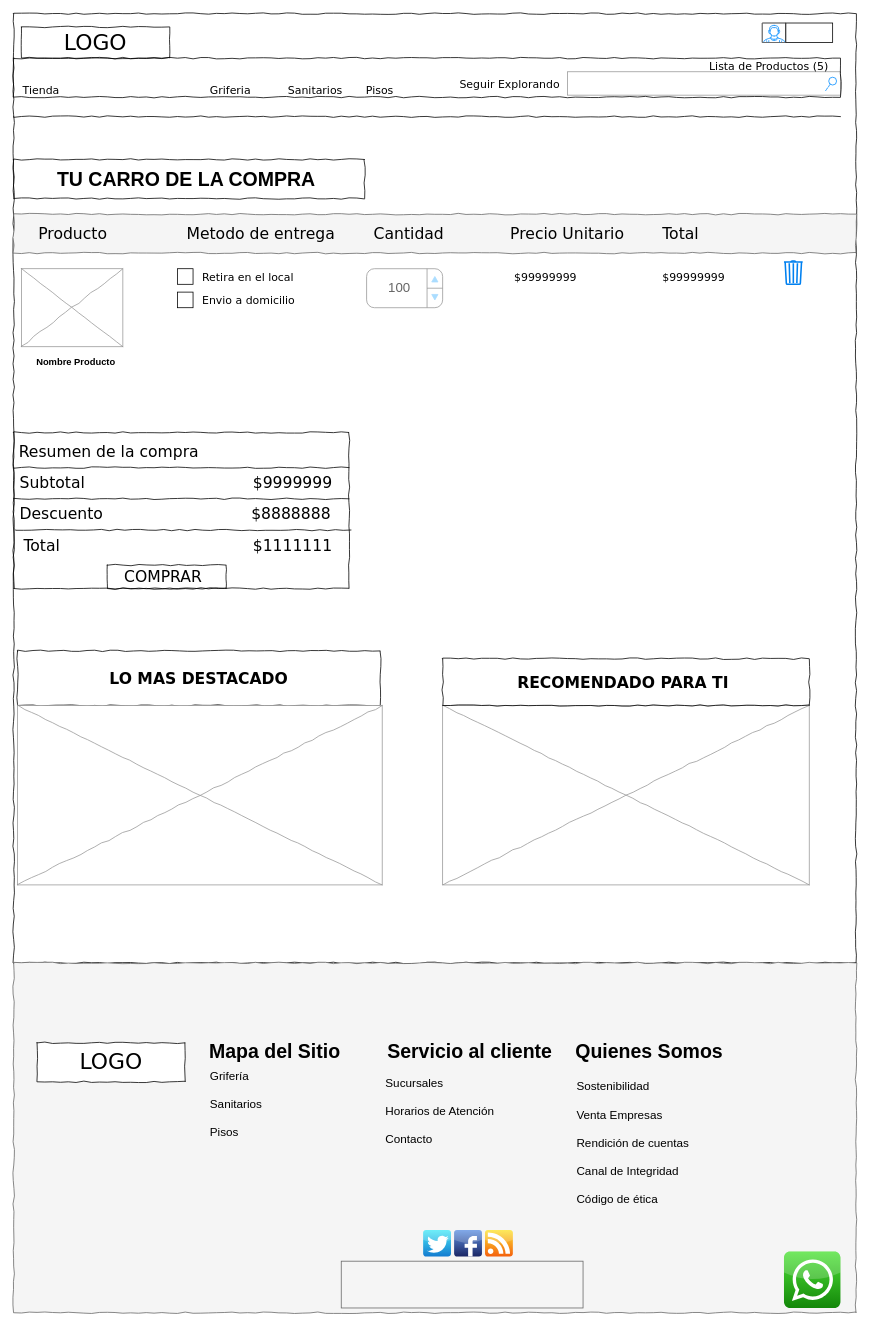
This 870x1335 diagram has some shape labels left out. The centre of each missing label's shape, as x and y in pixels:
"Mosaik 2021 - Todos los derechos reservados." goes at pixel 461 1284.
"Search" goes at pixel 703 83.
"user name" goes at pixel 809 32.
